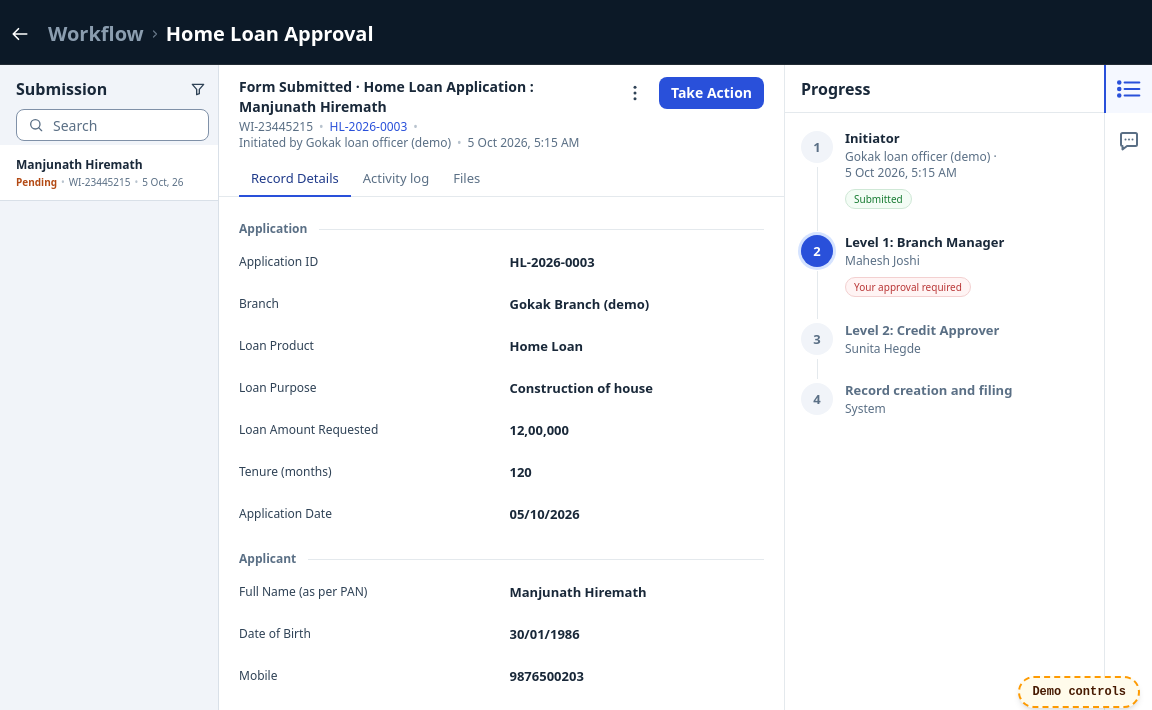
opening and closing › opens as a dialog named Take Action, with the choices, a comment box, Cancel and Submit
Click the button "Take Action" at (711, 93), box 659,77 -> 764,109
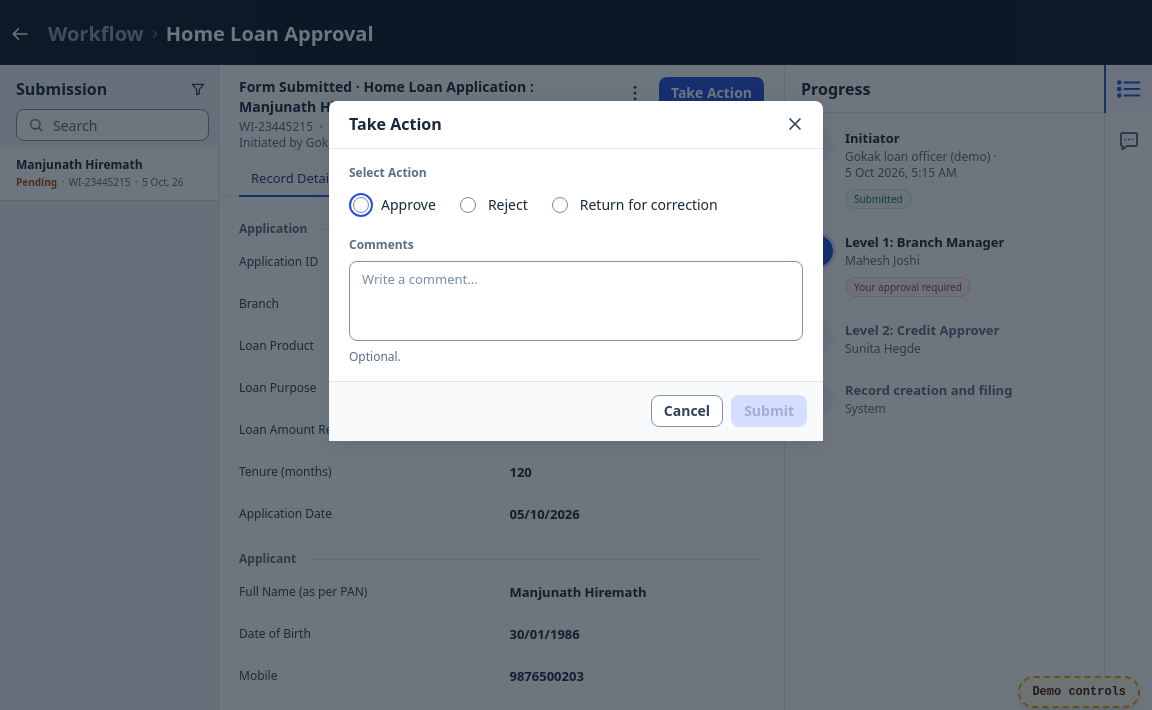
expect the element "Select Action" is shown: met, box 349,164 -> 718,214
expect the button "Cancel" is shown: met, box 651,395 -> 723,427
expect the button "Submit" is shown: met, box 731,395 -> 807,427
